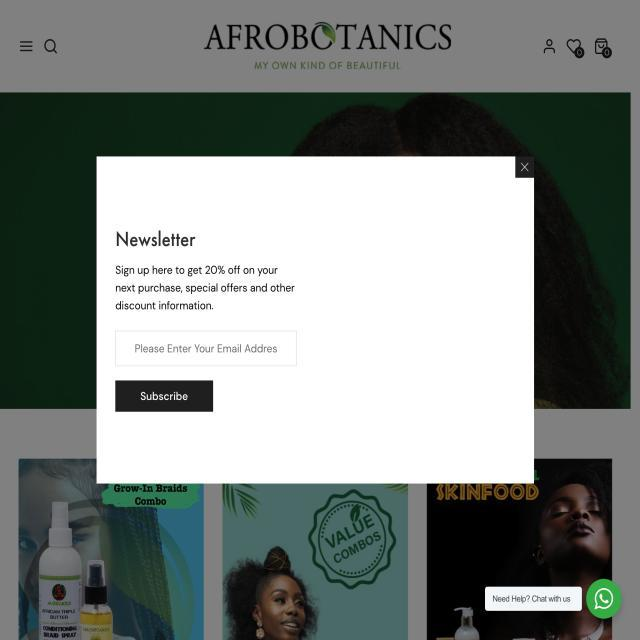button: (115, 380, 214, 412), (485, 586, 582, 612)
input field: (115, 330, 296, 367)
modal: (95, 152, 539, 492)
